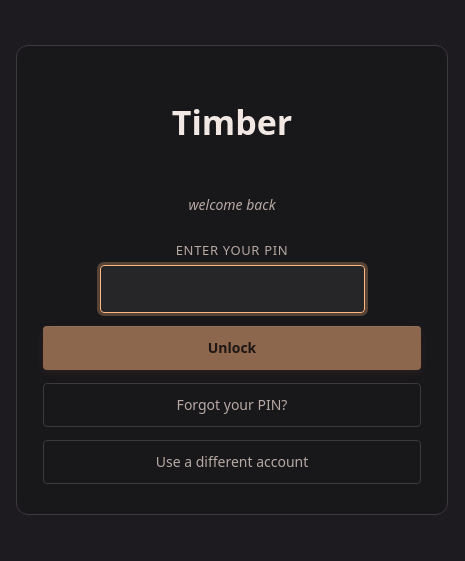
failed unlocking › clears the PIN when the PIN was wrong
Type "12345678" into the password field labelled "Enter your PIN" at [232, 289], box [100, 265, 364, 313]
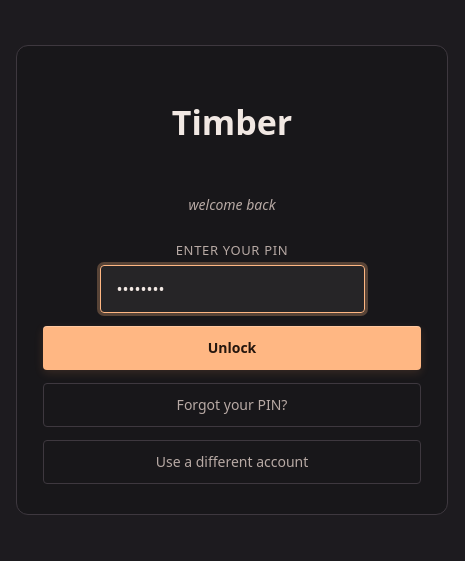
Click the button "Unlock" at [232, 348], box [43, 326, 421, 370]
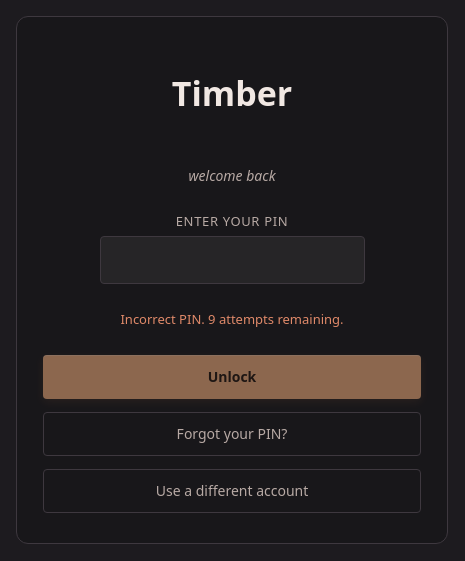
Result: the text "Incorrect PIN. 9 attempts remaining." is shown at [120, 310, 344, 329]
Result: the password field labelled "Enter your PIN" is empty at [100, 236, 364, 284]
